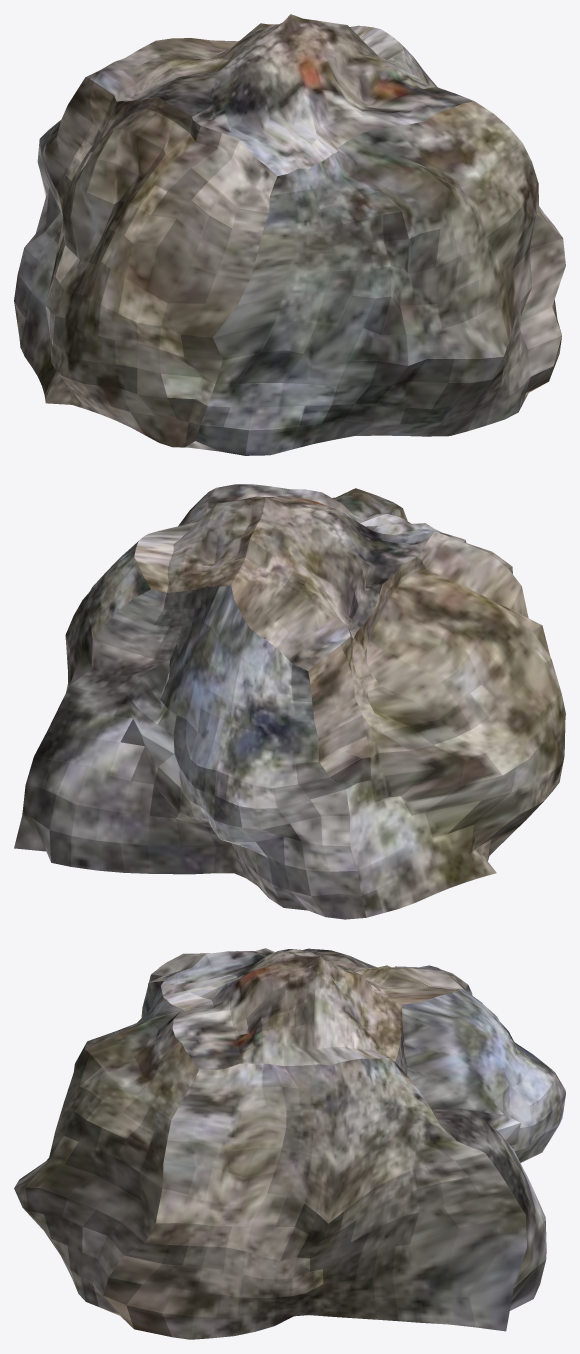
The model's file is jungle-rock-a.lod0.glb.
The picture shows the model from 3 angles, top to bottom: view 1: azimuth 30°, elevation 25°; view 2: azimuth 150°, elevation 25°; view 3: azimuth 270°, elevation 25°; orthographic projection. The views are drawn at different scales.
Visible parts, largest first — view 1: Rock 1_0; view 2: Rock 1_0; view 3: Rock 1_0.
Boxes of the visible parts, x1,y1,x2,y2 form: Rock 1_0: (14, 14, 565, 455); Rock 1_0: (14, 484, 565, 919); Rock 1_0: (14, 948, 565, 1339).
Size of the model in its own units: 2.66 by 1.87 by 3.
Materials: 1 (1 with a texture image).
